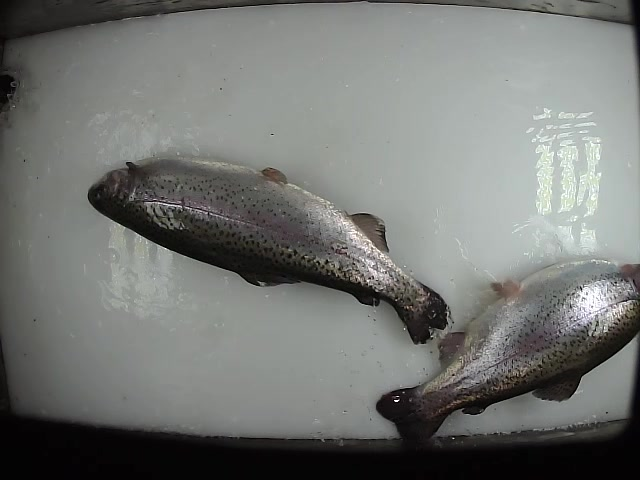fish: (84, 154, 455, 345), (373, 254, 640, 455)
